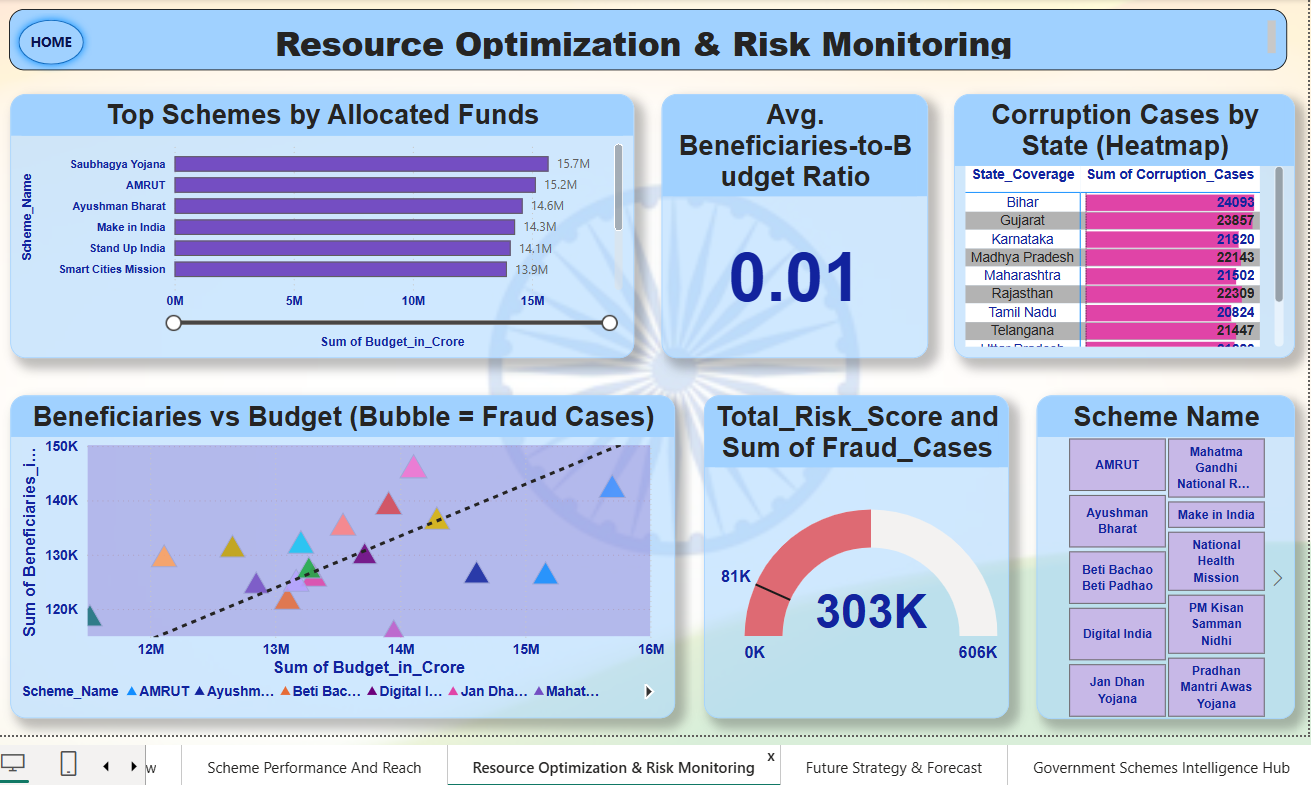

The dashboard page shown, as its layout file describes it:
{"tool":"powerbi","page":{"name":"Resource Optimization & Risk Monitoring","canvas":[1280,720],"ordinal":2},"visuals":[{"type":"card","title":"Avg. Beneficiaries-to-Budget Ratio","fields":{"Values":["Eligibility Criteria.Beneficiary_Budget_Ratio"]},"box":[648.1,92.9,260.5,258],"z":0},{"type":"clusteredBarChart","title":"Top Schemes by Allocated Funds","fields":{"Category":["Scheme.Scheme_Name"],"Y":["Sum(Financial Details.Budget_in_Crore)"]},"box":[11,92.9,610.2,258],"z":1000},{"type":"scatterChart","title":"Beneficiaries vs Budget (Bubble = Fraud Cases)","fields":{"X":["Sum(Financial Details.Budget_in_Crore)"],"Y":["Sum(Financial Details.Beneficiaries_in_Lakhs)"],"Size":["Sum(Financial Details.Fraud_Cases)"],"Series":["Scheme.Scheme_Name"]},"box":[11.5,388.1,650.7,316],"z":2000},{"type":"pivotTable","title":"Corruption Cases by State (Heatmap)","fields":{"Rows":["Scheme.State_Coverage"],"Values":["Sum(Financial Details.Corruption_Cases)"]},"box":[934.2,92.9,333.8,258],"z":3000},{"type":"slicer","title":"Scheme Name","fields":{"Values":["Scheme.Scheme_Name"]},"box":[1015,387.6,253.1,316.7],"z":4000},{"type":"textbox","box":[10,10,1250,60],"z":5000},{"type":"shape","box":[11.2,12.5,80,60],"z":6000},{"type":"gauge","fields":{"Y":["Budget Change.Total_Risk_Score"],"TargetValue":["Sum(Financial Details.Fraud_Cases)"]},"box":[689.6,388.1,298.7,316],"z":7000}]}

Visuals, with their boxes on the page's 1280x720 design canvas (x1, y1, x2, y2). These are canvas units, not pixel positions in the 1311x785 screenshot, which may show the page scaled, cropped or inside an application window:
"Avg. Beneficiaries-to-Budget Ratio" card: select_region(648, 93, 909, 351)
"Top Schemes by Allocated Funds" clusteredBarChart: select_region(11, 93, 621, 351)
"Beneficiaries vs Budget (Bubble = Fraud Cases)" scatterChart: select_region(12, 388, 662, 704)
"Corruption Cases by State (Heatmap)" pivotTable: select_region(934, 93, 1268, 351)
"Scheme Name" slicer: select_region(1015, 388, 1268, 704)
textbox: select_region(10, 10, 1260, 70)
shape: select_region(11, 12, 91, 72)
gauge - Budget Change.Total_Risk_Score x Sum(Financial Details.Fraud_Cases): select_region(690, 388, 988, 704)
